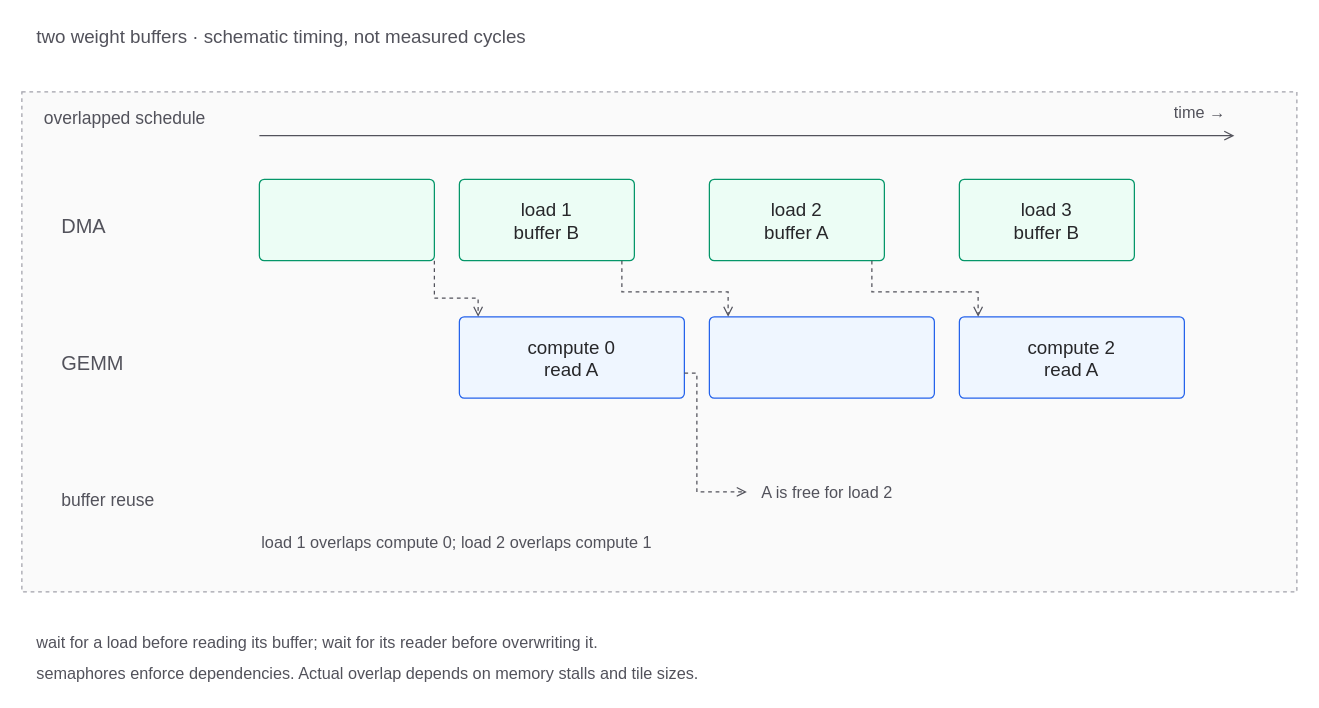
Image size: 1319x708. Some labels were removed from this diagram. Each missing label, with the centre of its shape:
compute 1 read B: the point at 821,357
load 0 buffer A: the point at 346,219
